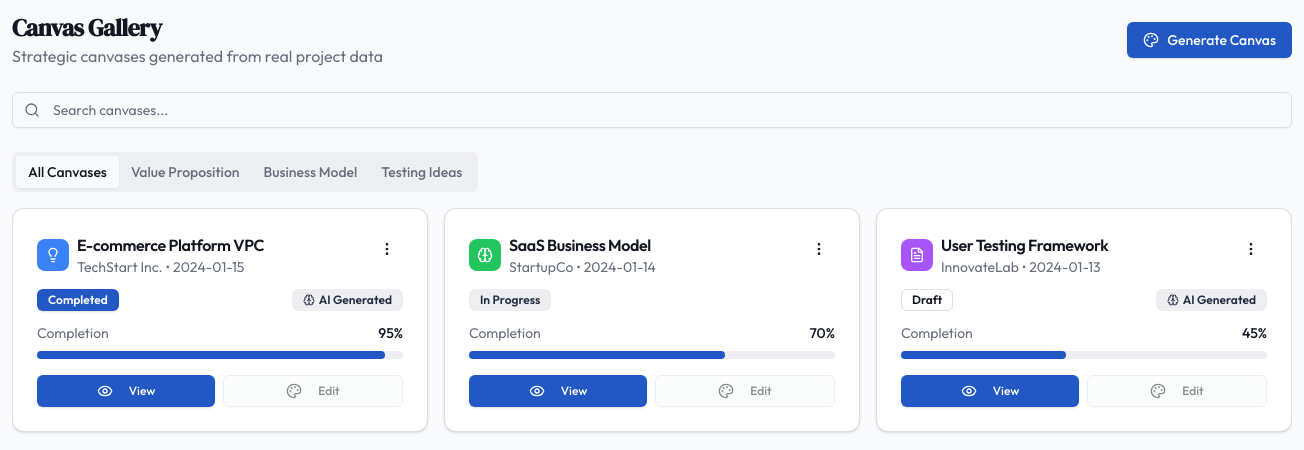
Test case: CanvasGallery › Search Functionality › shows no results message when search has no matches
Type "NonexistentCanvas" into the field with placeholder "Search canvases..." at (652, 110), box [12,92,1292,128]
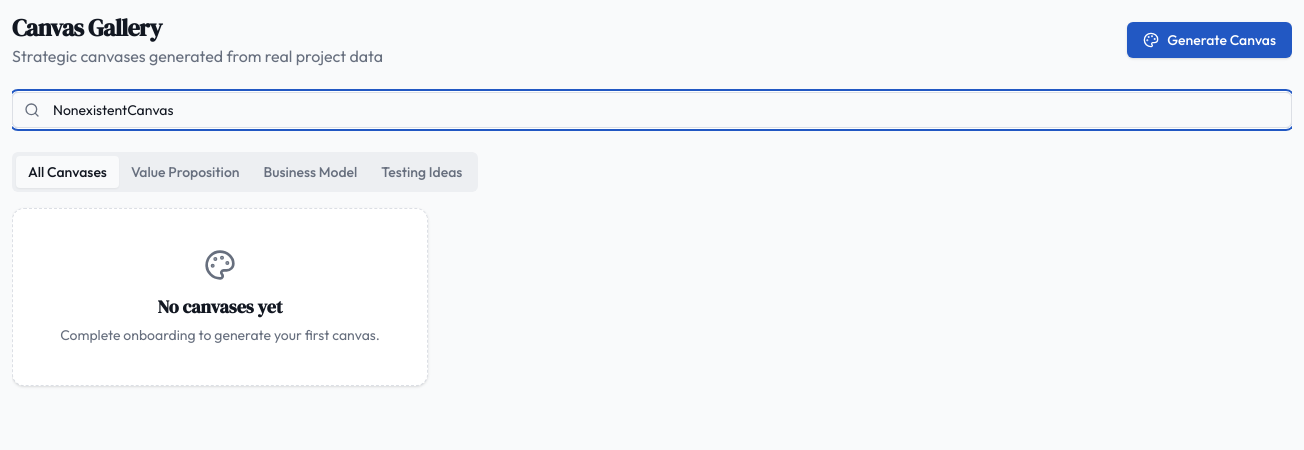
expect the text "E-commerce Platform VPC" is gone: met
expect the text "SaaS Business Model" is gone: met
expect the text "User Testing Framework" is gone: met
